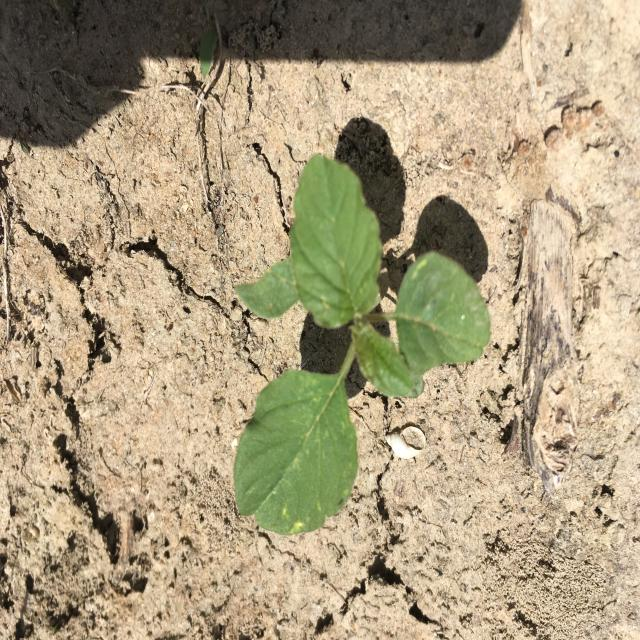PalmerAmaranth: (234, 153, 492, 536)
